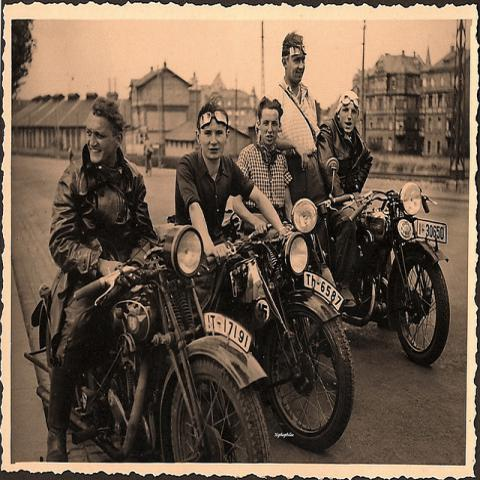motorcycle: (68, 222, 270, 463), (207, 233, 354, 453), (346, 181, 452, 362), (282, 160, 356, 296)
